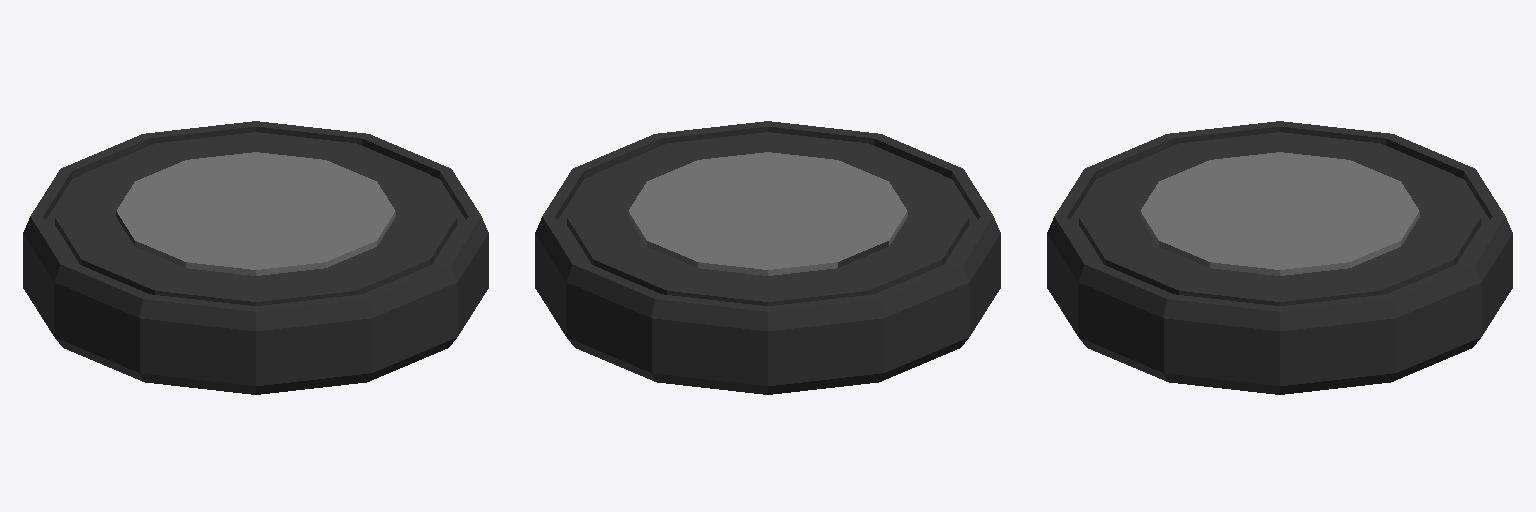
The picture shows the model from 3 angles: view 1: azimuth 30°, elevation 25°; view 2: azimuth 150°, elevation 25°; view 3: azimuth 270°, elevation 25°; orthographic projection.
Parts seen in each view (by area): view 1: pCylinder1; view 2: pCylinder1; view 3: pCylinder1.
Boxes of the visible parts, x1=… form: pCylinder1: x1=23, y1=121, x2=488, y2=394; pCylinder1: x1=535, y1=121, x2=1000, y2=394; pCylinder1: x1=1047, y1=121, x2=1512, y2=394.
Size of the model in its own units: 0.2374 by 0.0505 by 0.2374.
Materials: 1 (1 with a texture image).